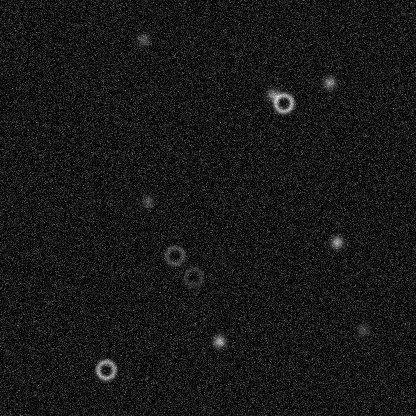Ring: (181, 264, 205, 288), (93, 357, 117, 381), (162, 243, 186, 267), (271, 90, 295, 114)
Spot: (321, 74, 337, 90), (328, 234, 344, 250), (135, 31, 151, 47), (355, 322, 371, 338), (211, 333, 227, 349), (139, 193, 155, 209), (264, 86, 280, 102)
